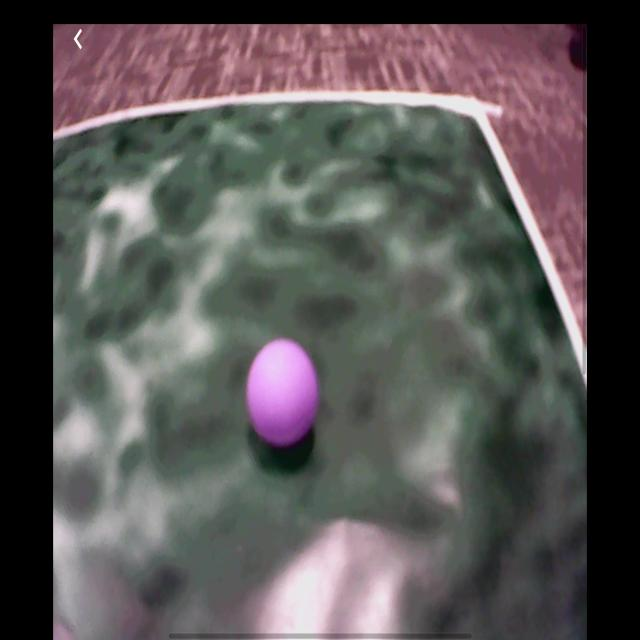ball: (246, 337, 320, 450)
